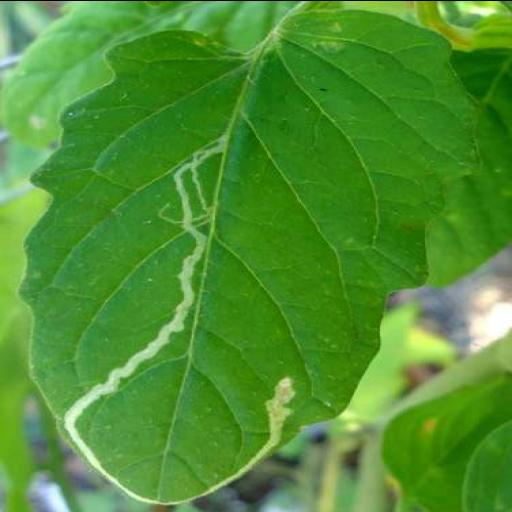Leaf Miner: (15, 8, 485, 504)
